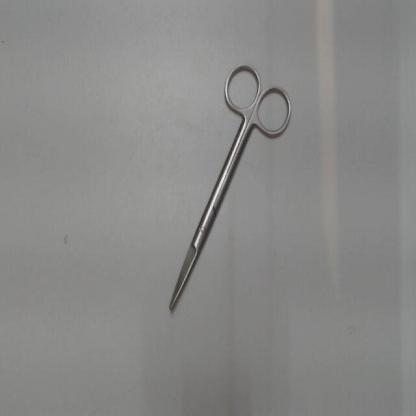Curved Mayo Scissors: (164, 56, 298, 324)
